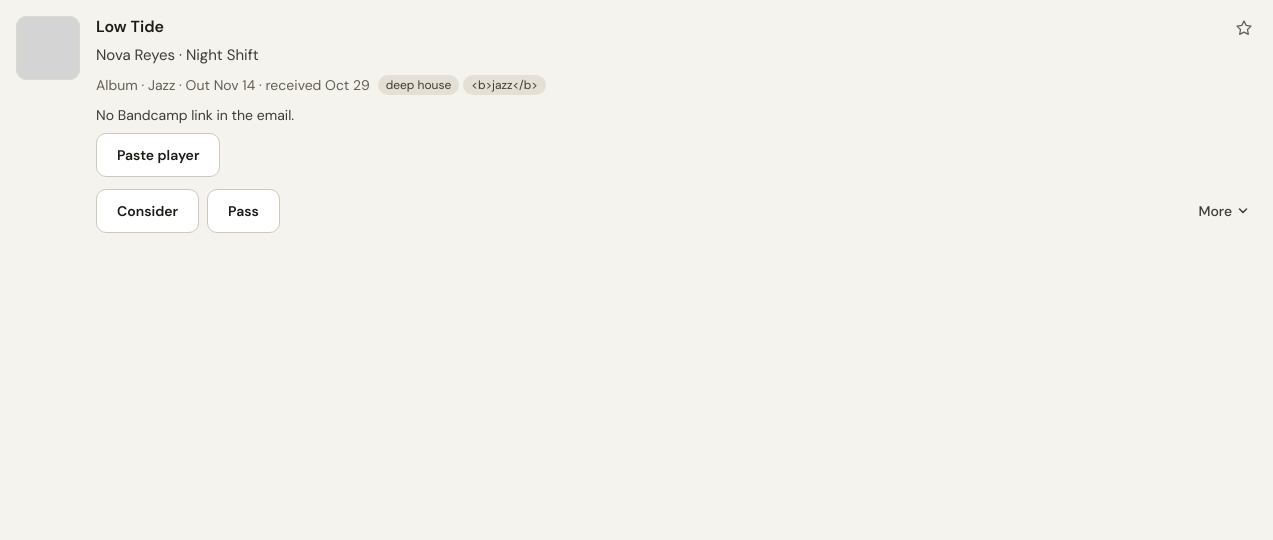
Test: art, tags, about and favorite › About (in More) is collapsed and shows the description as plain text, never a link
What coordinates should you click on to do the following:
click the button "More"
I would click on:
 (1223, 211)
Its box is [1190,189,1256,233].
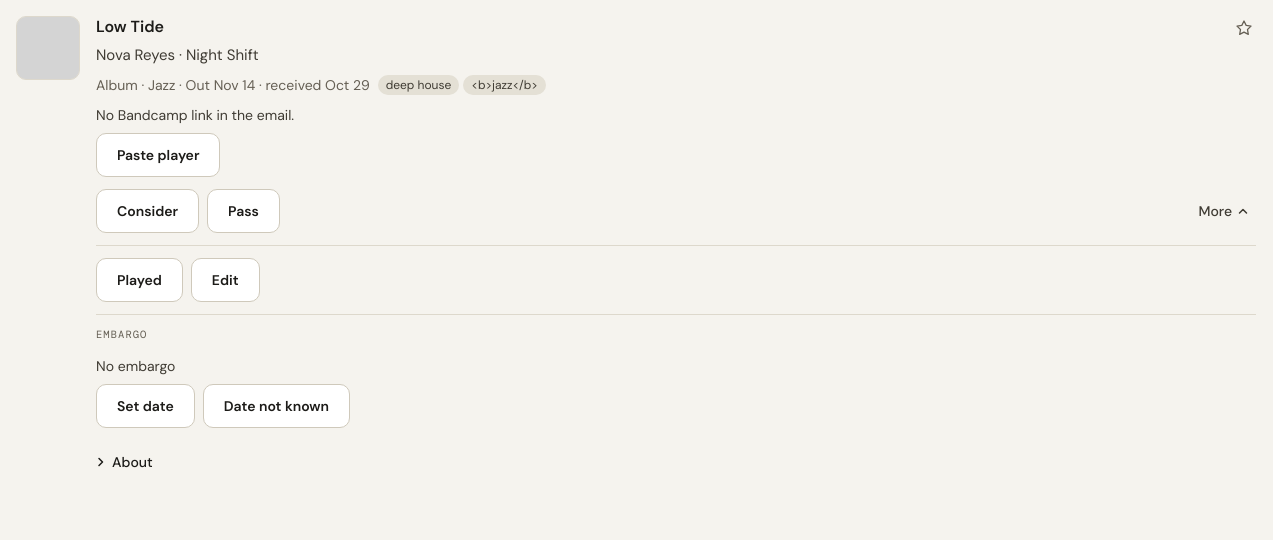
What coordinates should you click on to do the following:
click the heading "About"
I would click on:
 (124, 462)
Its box is [96,452,153,470].
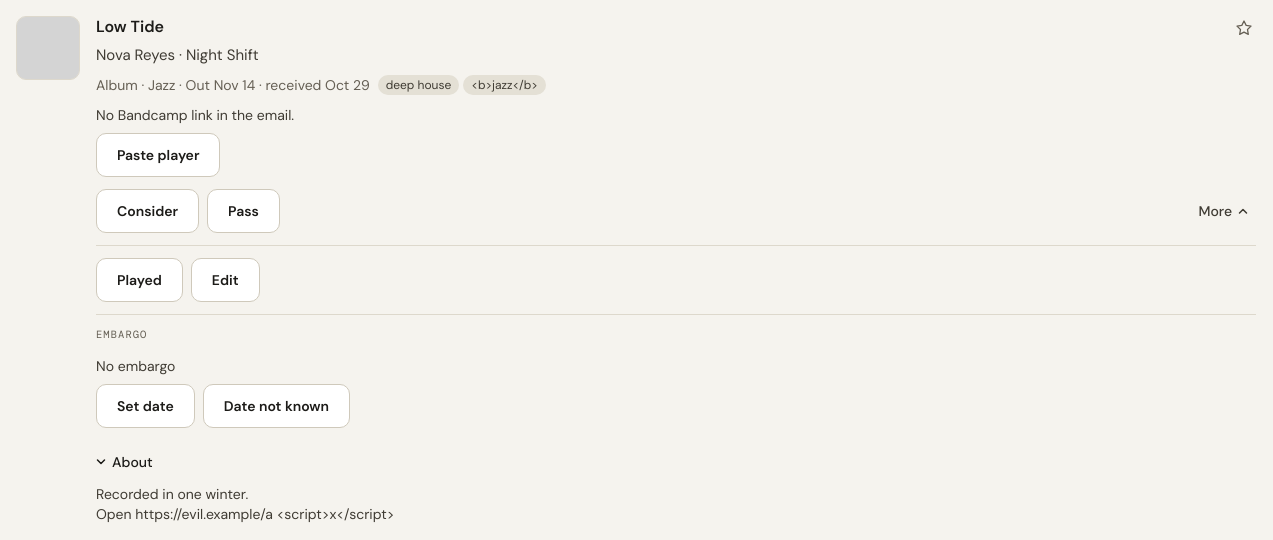
Expected: the text "Recorded in one winter" shows "Open https://evil.example/a <script>x</script>", [96,484,394,522]
